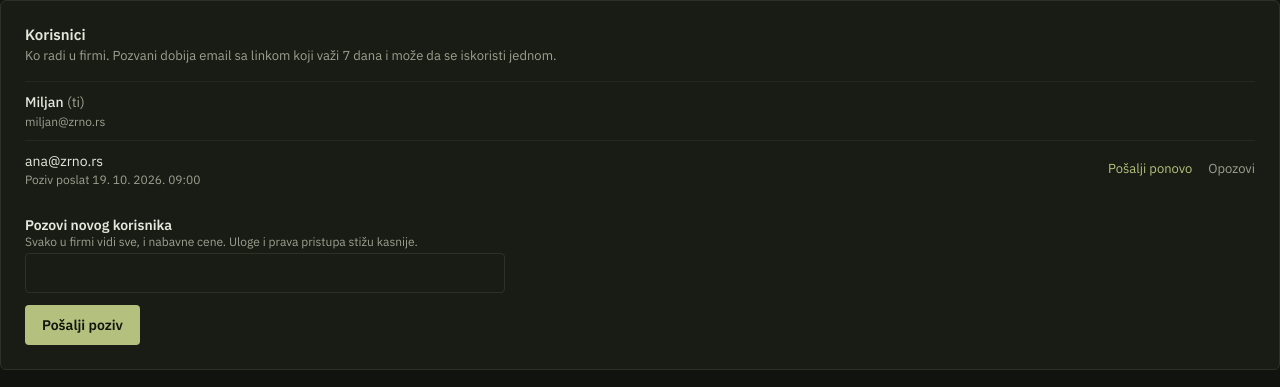
it: UsersSection › Revoke_Invitation_RemovesItsRow
The width and height of the screenshot is (1280, 387).
Click the button with aria-label "Opozovi poziv za ana@zrno.rs" at (1232, 170), box [1208,160,1255,179]
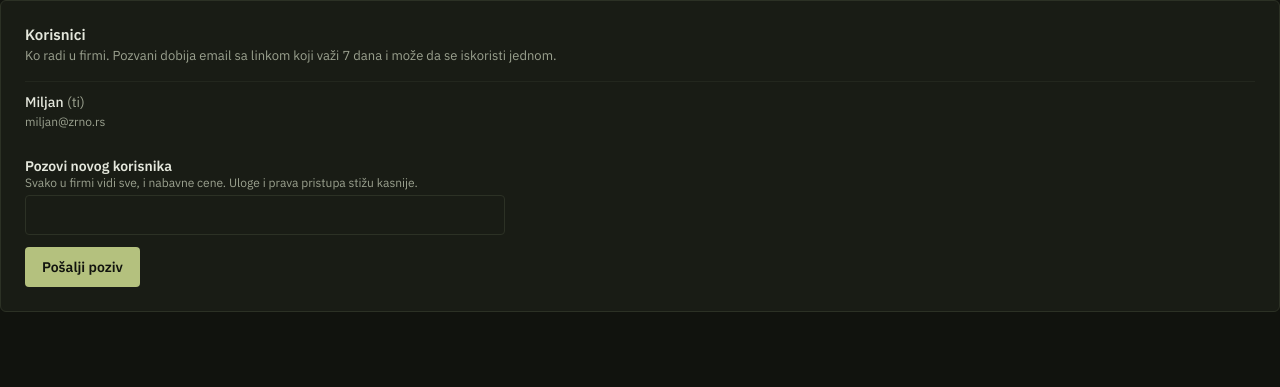
Expected: the text "ana@zrno.rs" is gone
